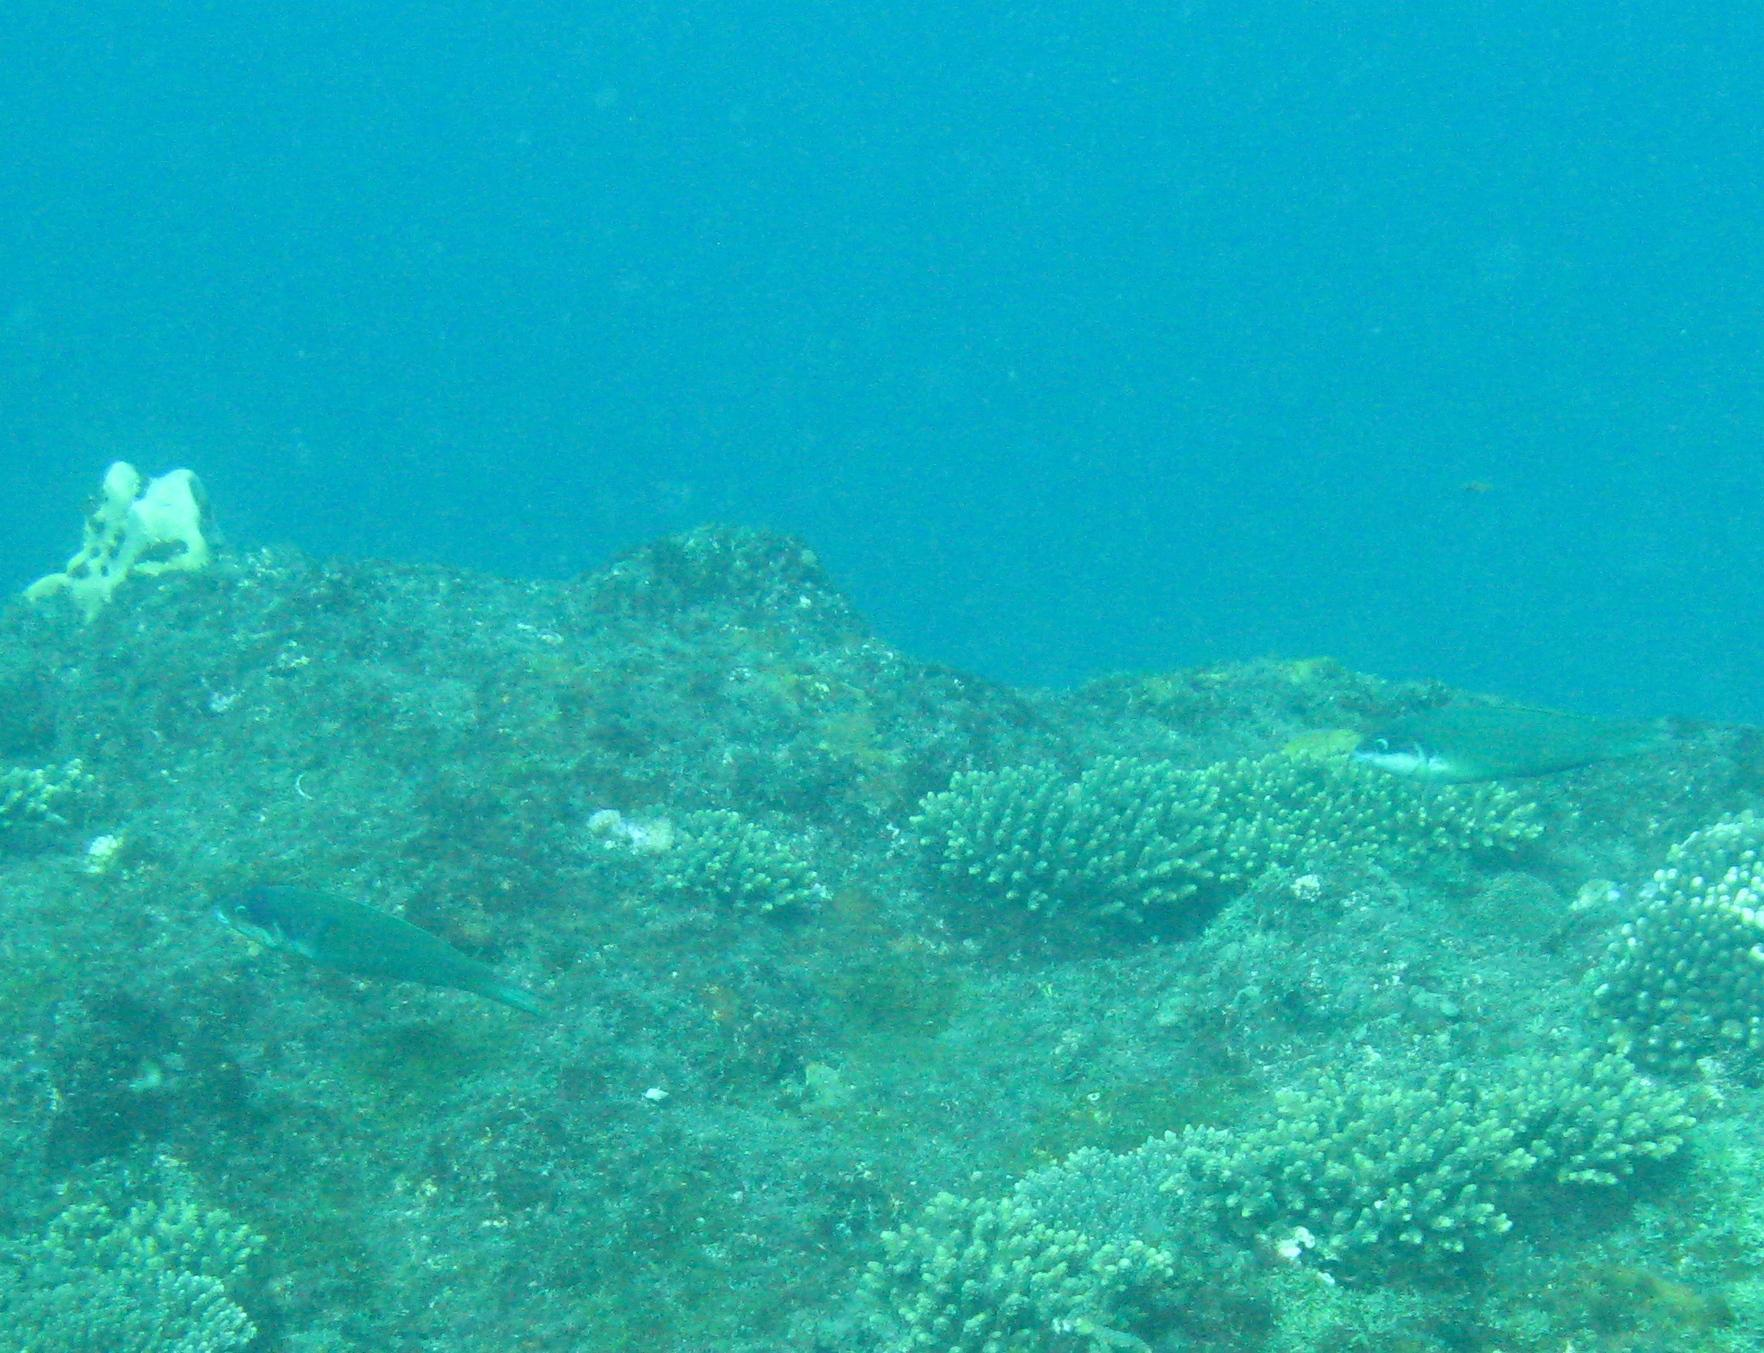Fish: (178, 866, 574, 1032), (1346, 685, 1686, 807)
